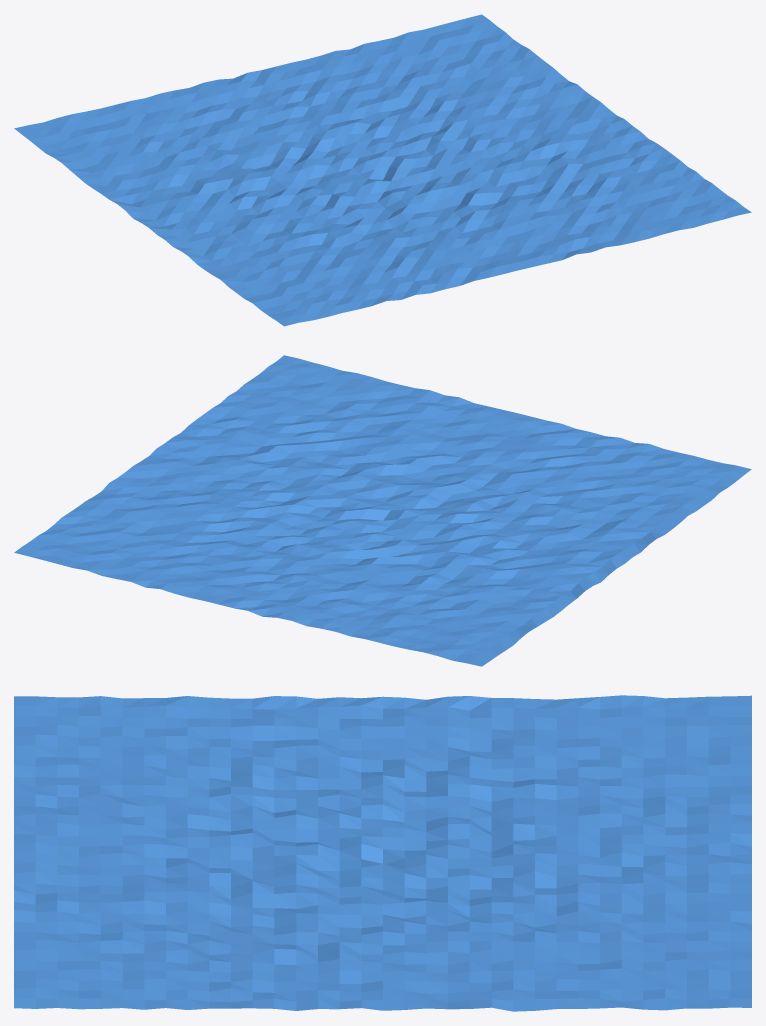
The model's file is WaterWithWaves.fbx.
3 views of the same model, one above another, from view 1: azimuth 30°, elevation 25°; view 2: azimuth 150°, elevation 25°; view 3: azimuth 270°, elevation 25° (orthographic). The views are drawn at different scales.
Parts seen in each view (by area): view 1: WaterWithWaves; view 2: WaterWithWaves; view 3: WaterWithWaves.
Boxes of the visible parts, <box> form: WaterWithWaves: <box>14,14,751,326</box>; WaterWithWaves: <box>14,355,751,666</box>; WaterWithWaves: <box>14,695,751,1011</box>.
Bounding box in the file's own units: 6000 × 127 × 6000.
